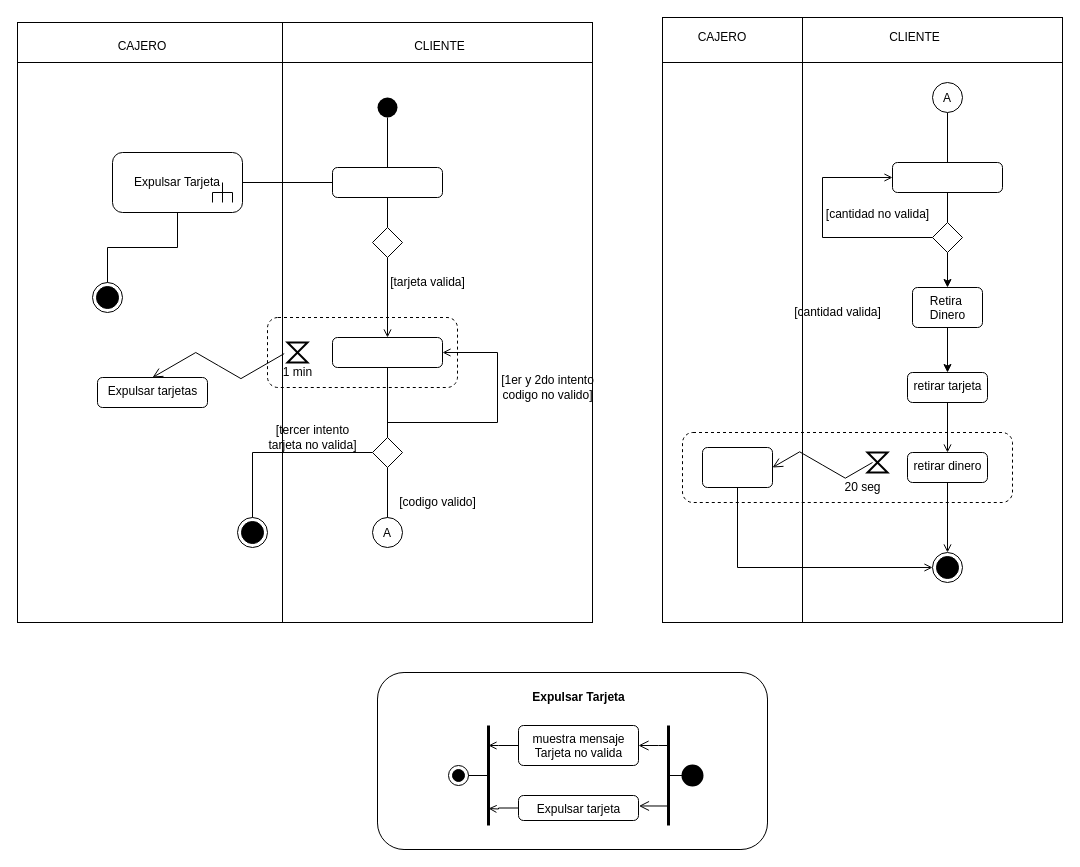
The diagram is 1080 pixels wide and 867 high, and some of its shapes have lost their labels. Here are the shapes that lost their labels. From the top down, the centre of each, then its label:
At [387,182]: "Insertar tarjeta".
At [947,177]: "Introduce cantidad".
At [387,352]: "Ingreso Codigo".
At [737,467]: "Retener dinero".
